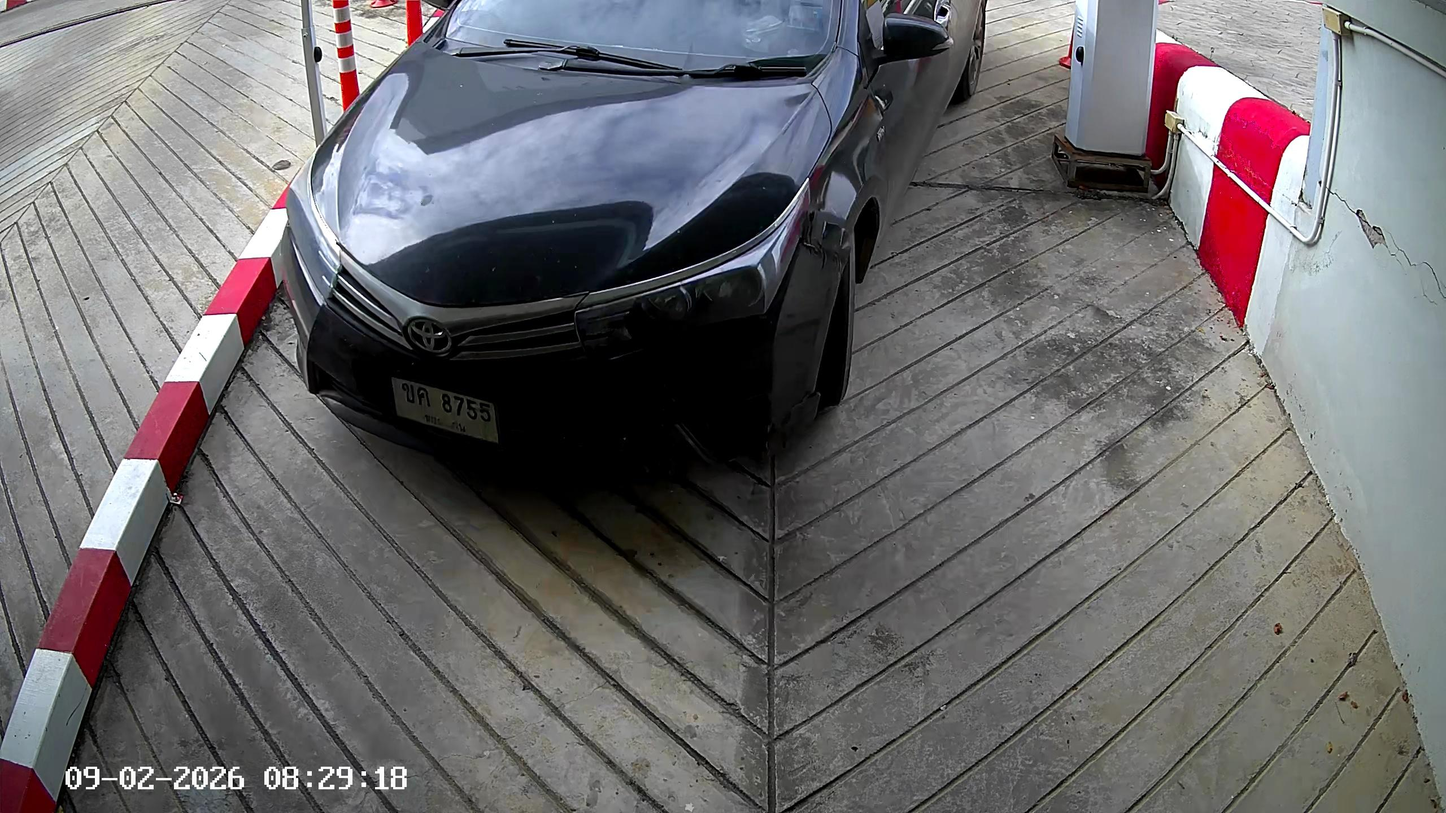car: (280, 3, 988, 466)
license-plate: (389, 368, 502, 452)
